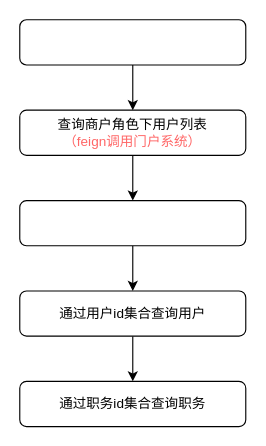
Image size: 266x446. Some labels were removed from this diagram. The shapes that lost their labels are listed below. From the top down, each one's centre as x and y in pixels, then its label:
point (132, 42): 查询商户详情 （主键查询）
point (132, 222): 通过用户id集合查询部门
